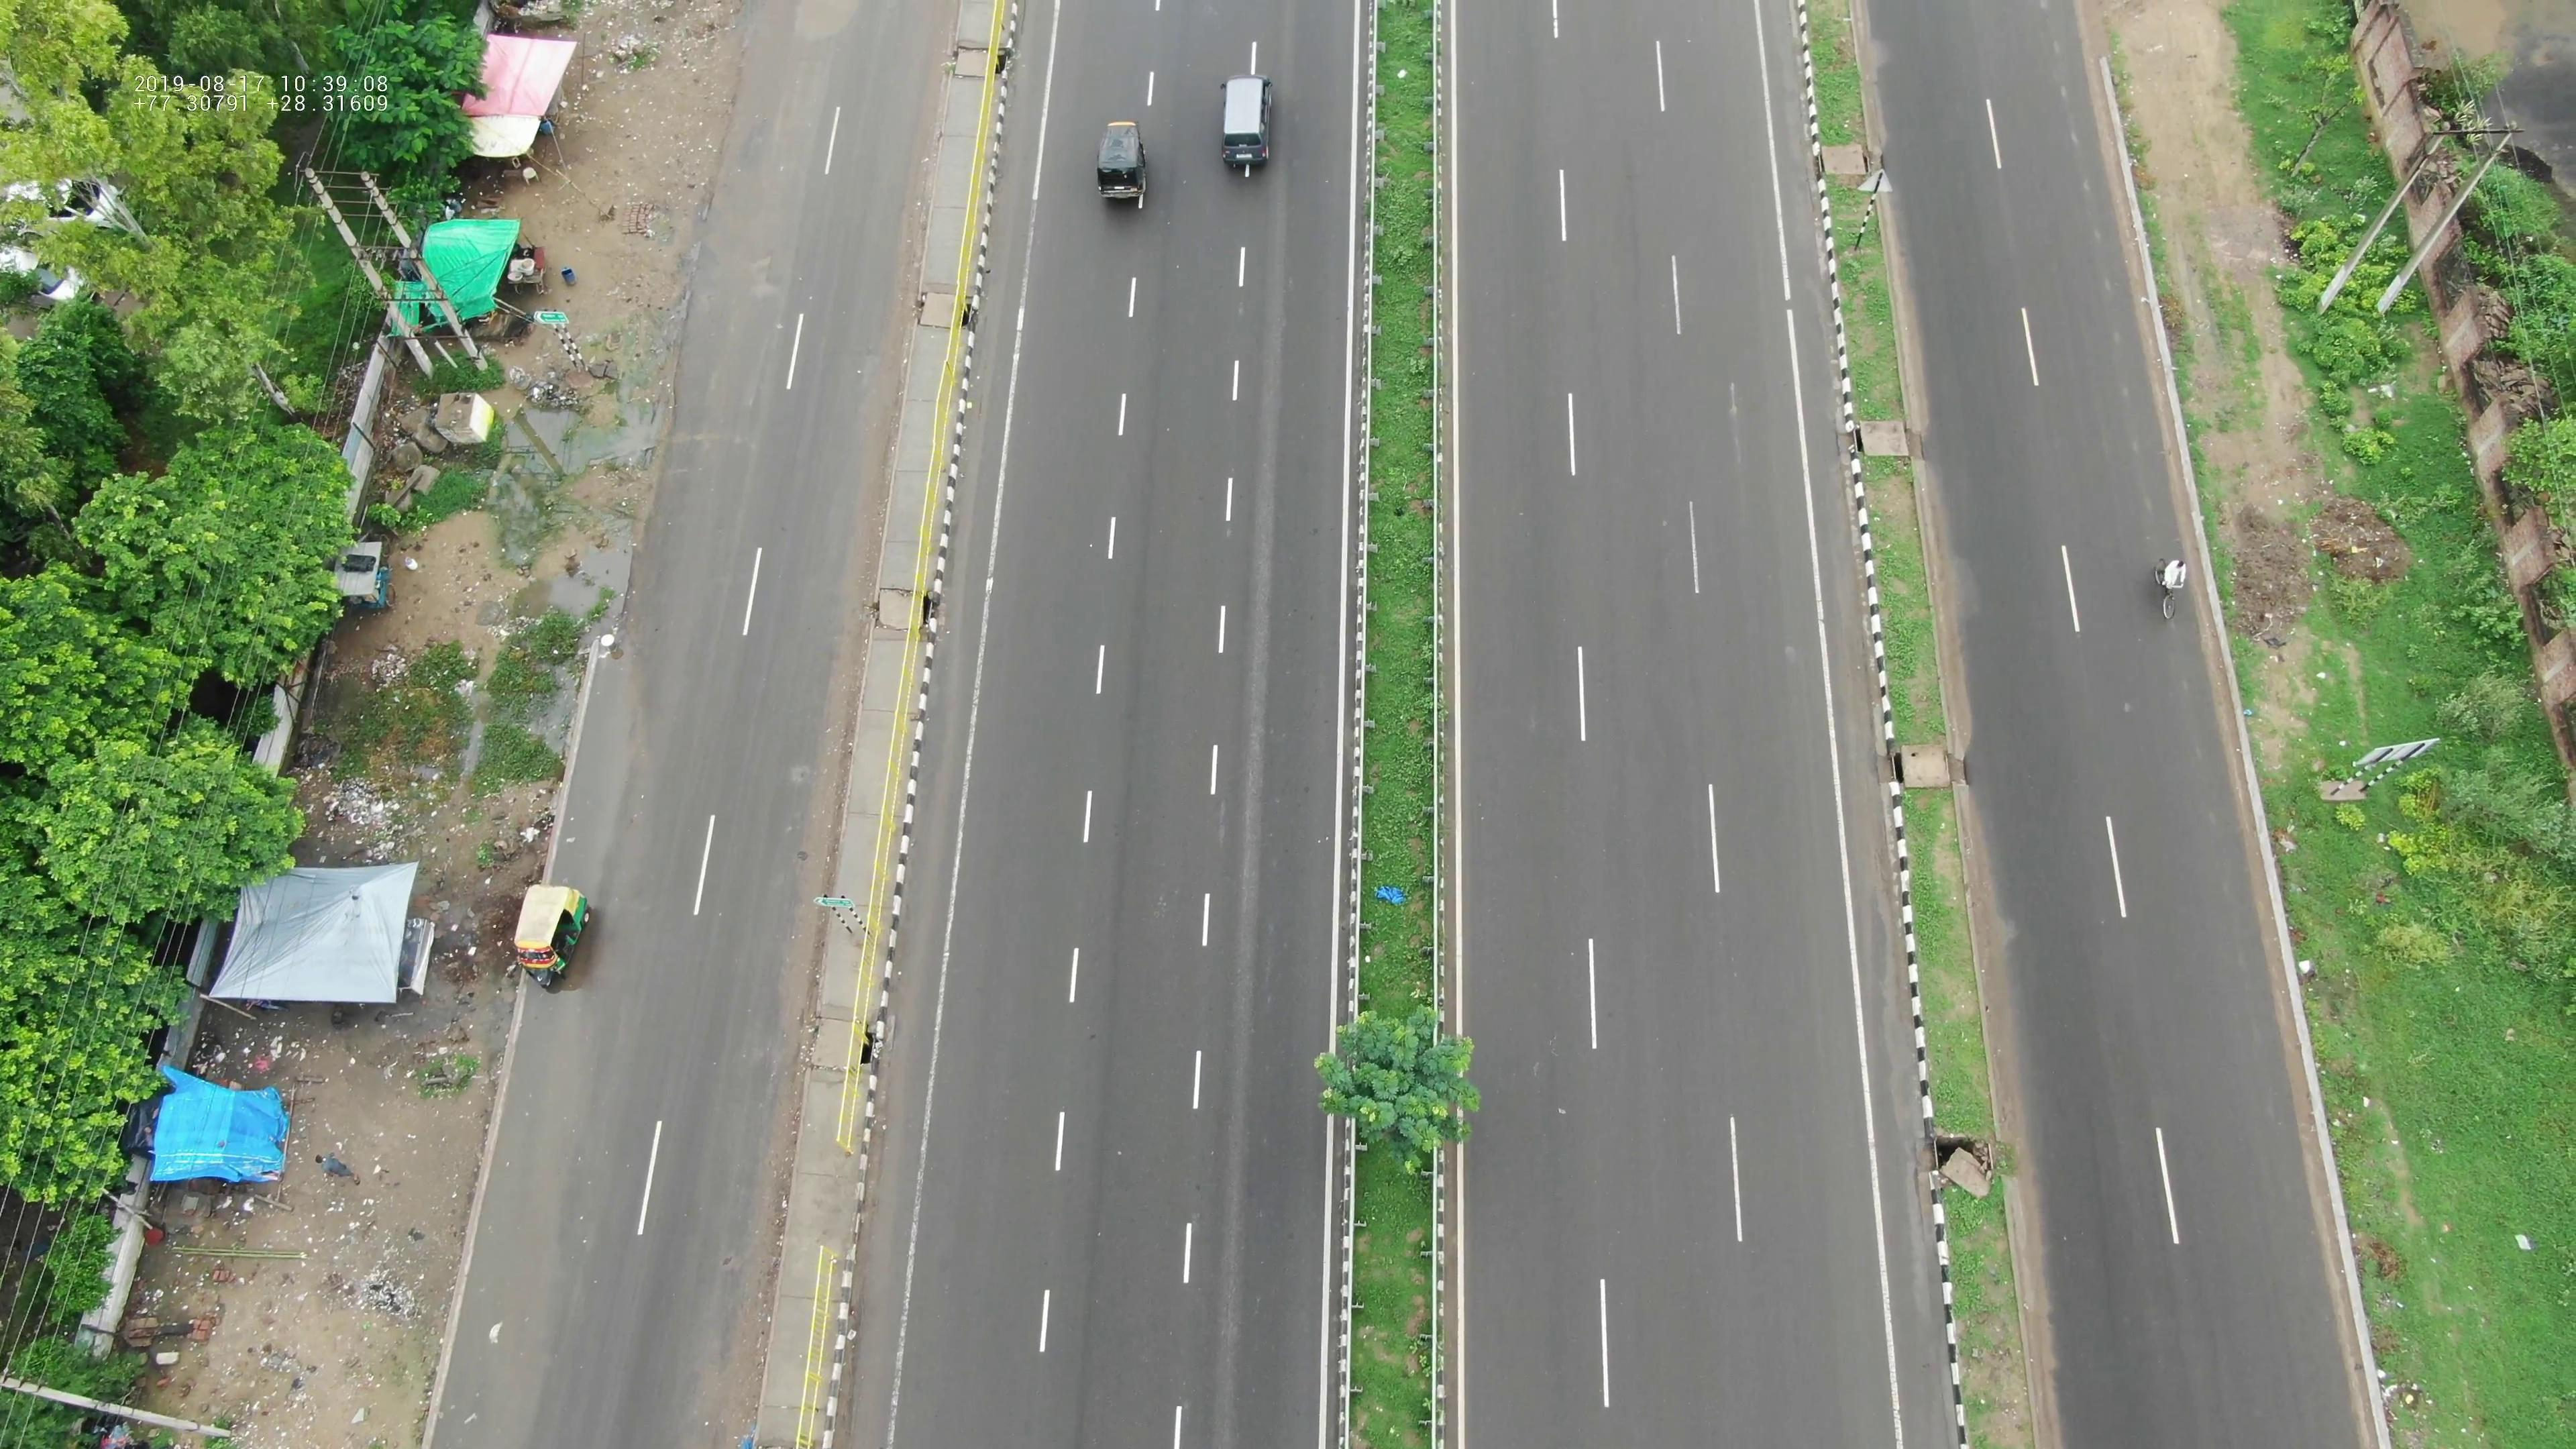Potholes: (2033, 16, 2102, 211), (2100, 359, 2164, 513), (2065, 209, 2128, 352), (724, 225, 796, 303)
Waterlogging: (430, 1085, 591, 1447), (554, 663, 644, 862)
